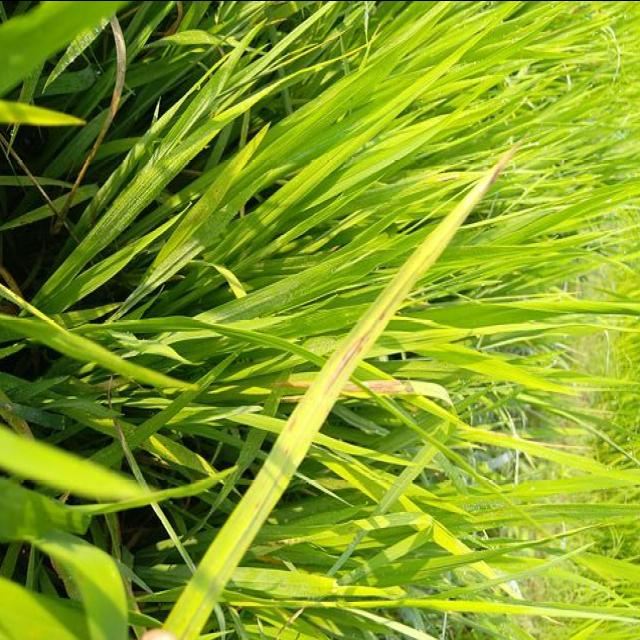Leaf Blight: (277, 144, 515, 485)
